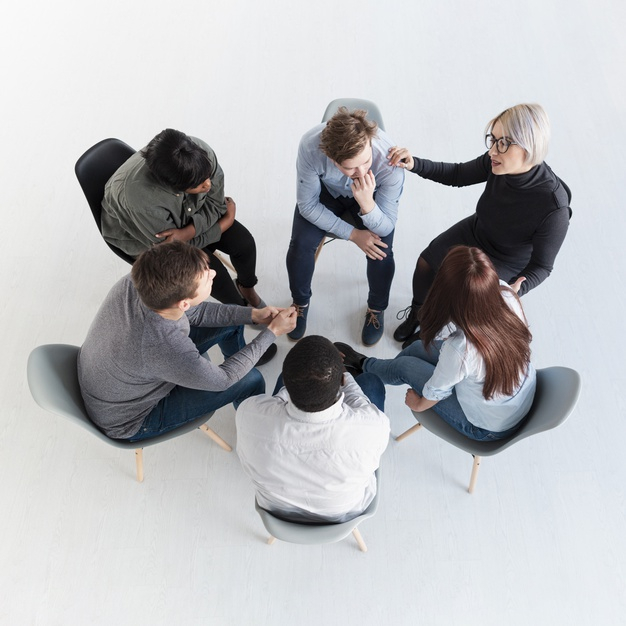person: (86, 244, 285, 441), (397, 102, 569, 258), (281, 111, 398, 337)
